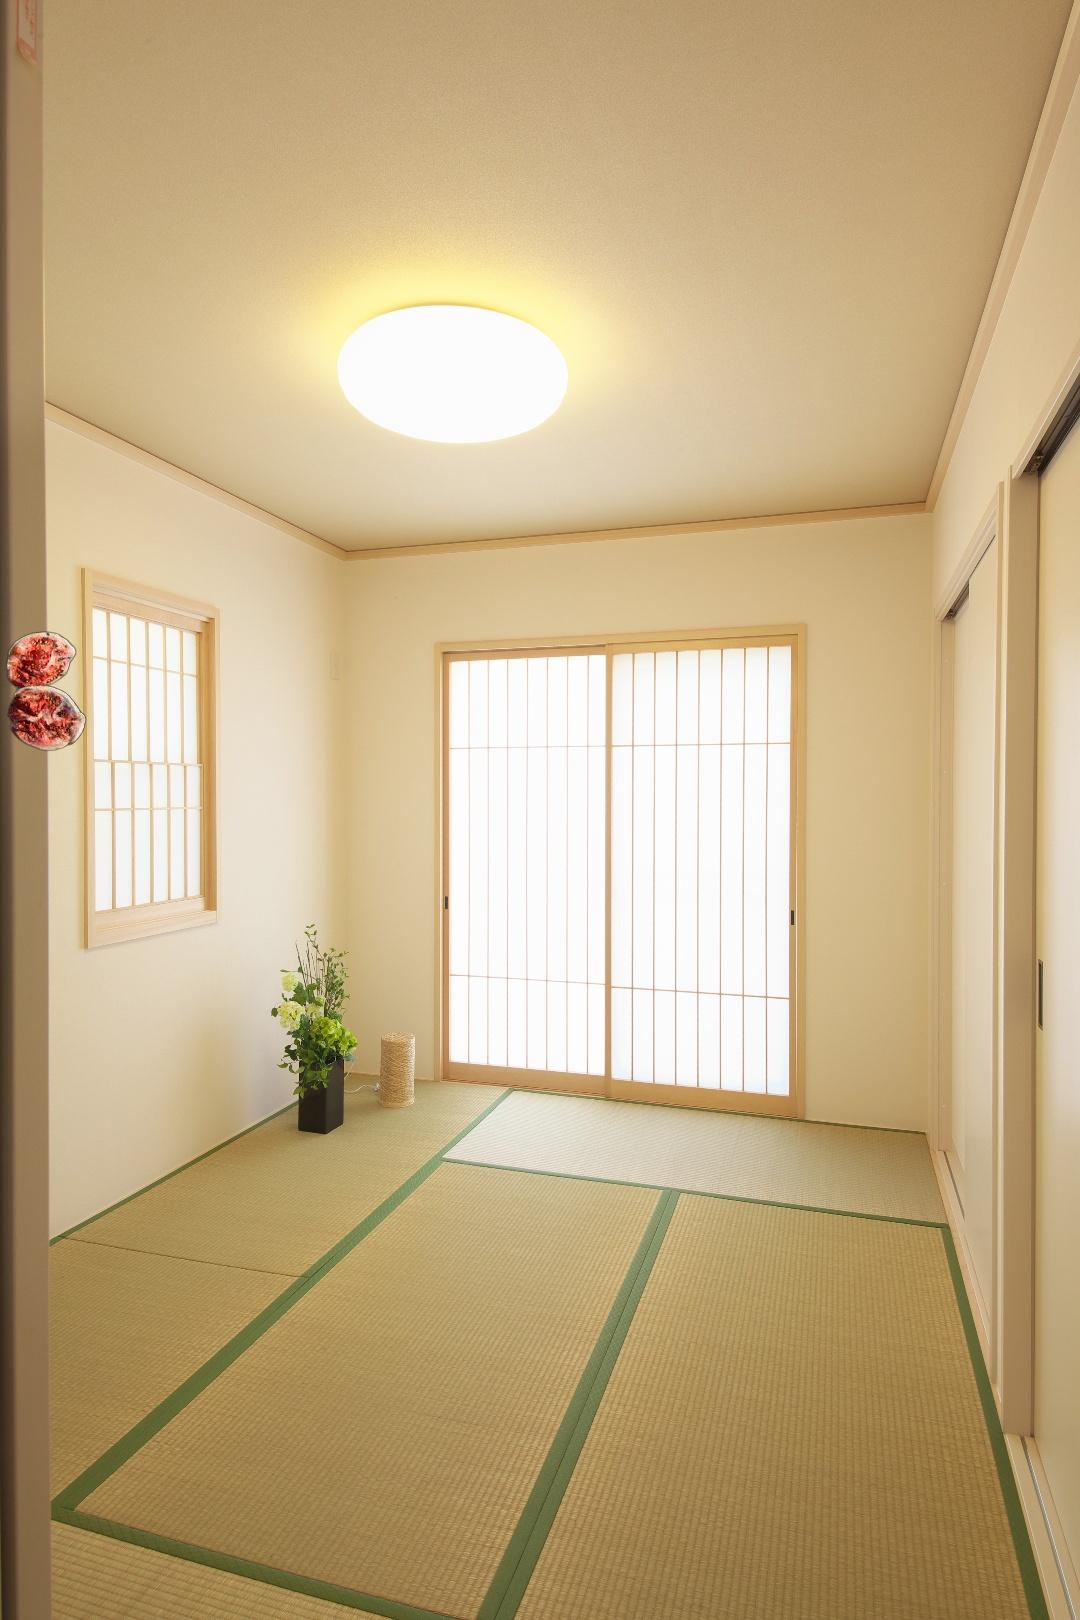biological: (5, 629, 88, 755)
